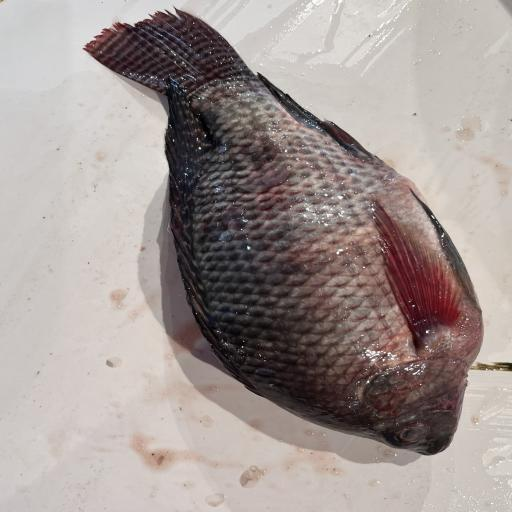Tilapia: (83, 7, 484, 457)
